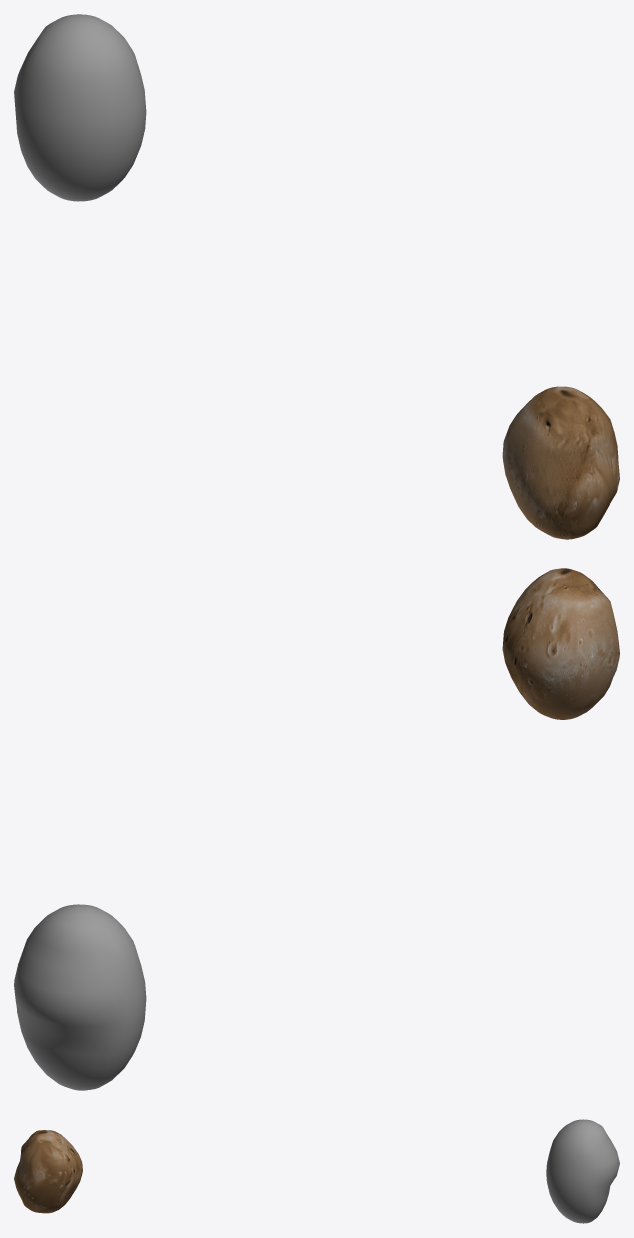
Rendered from mars_moons.obj.
The picture shows the model from 3 angles, top to bottom: view 1: azimuth 30°, elevation 25°; view 2: azimuth 150°, elevation 25°; view 3: azimuth 270°, elevation 25°; orthographic projection. The views are drawn at different scales.
Visible parts, largest first — view 1: Phobos_Mesh.001, Deimos_Mesh.002; view 2: Phobos_Mesh.001, Deimos_Mesh.002; view 3: Phobos_Mesh.001, Deimos_Mesh.002.
Boxes of the visible parts, x1,y1,x2,y2 form: Phobos_Mesh.001: (14,14,146,201); Deimos_Mesh.002: (502,386,619,539); Phobos_Mesh.001: (14,904,146,1090); Deimos_Mesh.002: (502,568,619,719); Phobos_Mesh.001: (546,1119,619,1223); Deimos_Mesh.002: (14,1130,82,1213).
Bounding box in the file's own units: 0.3786 × 0.557 × 3.08.
Materials: 2 (1 with a texture image).
